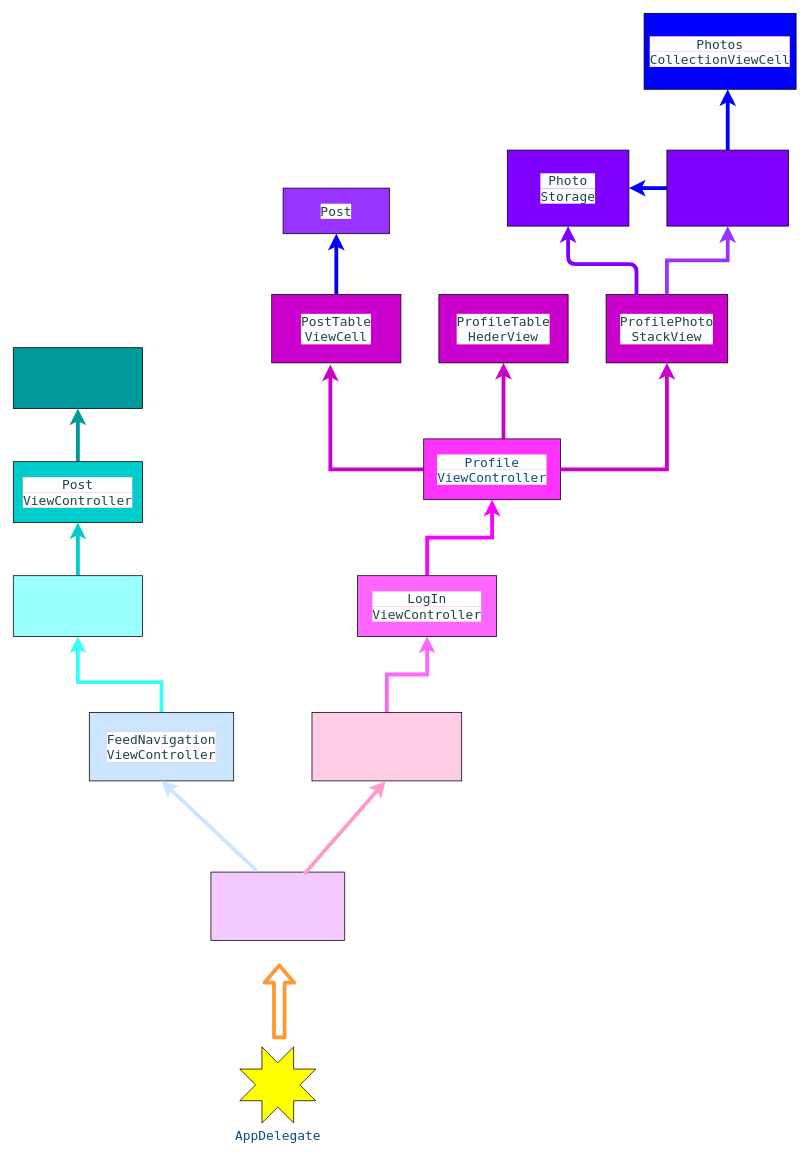
This 809x1157 diagram has some shape labels left out. Here are the shapes that lost their labels. From the top down, the box of each, then its label:
(666, 149, 788, 226): Photos ViewController
(13, 347, 142, 408): Info ViewController
(13, 575, 142, 636): Feed ViewController
(311, 712, 462, 781): ProfileNavigation ViewController
(210, 871, 345, 940): MyTabBarController
